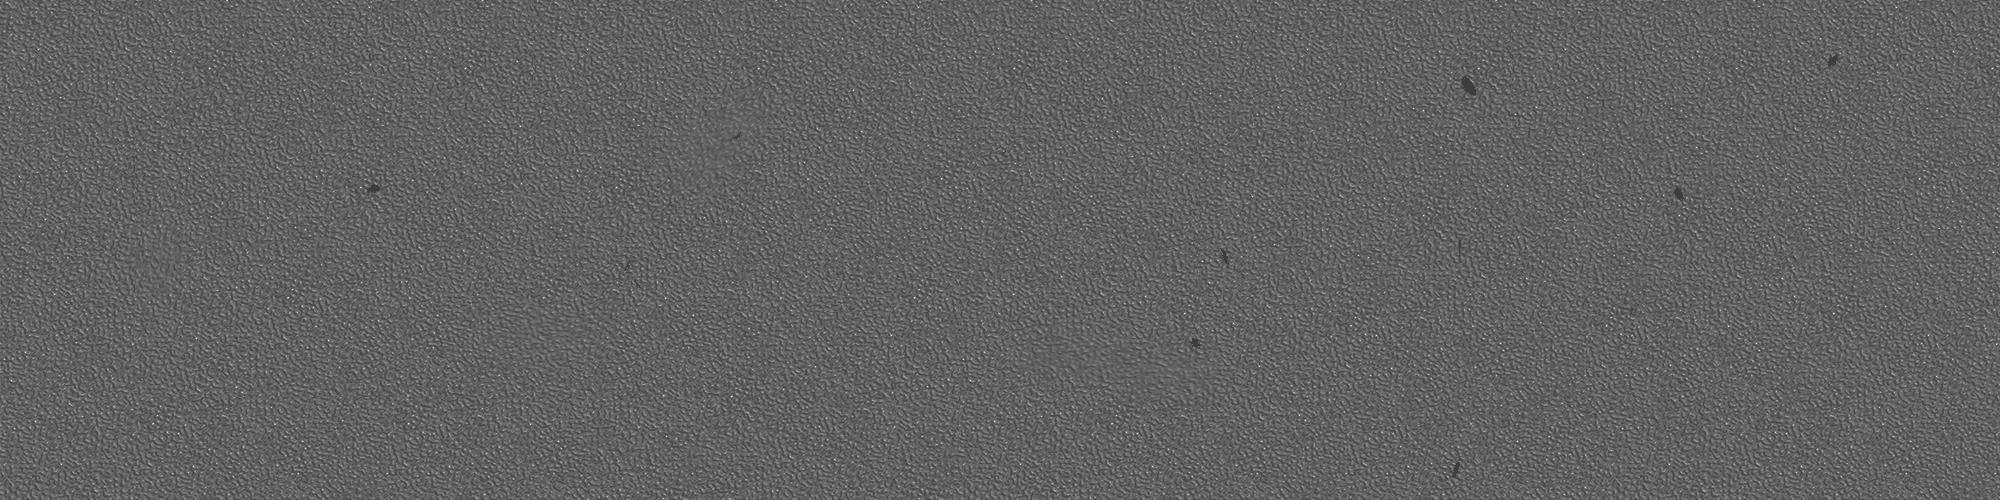Decomposed: (1452, 71, 1487, 103), (1212, 244, 1239, 270), (1449, 458, 1469, 480), (364, 180, 386, 199), (1187, 332, 1207, 351), (724, 131, 747, 142)
